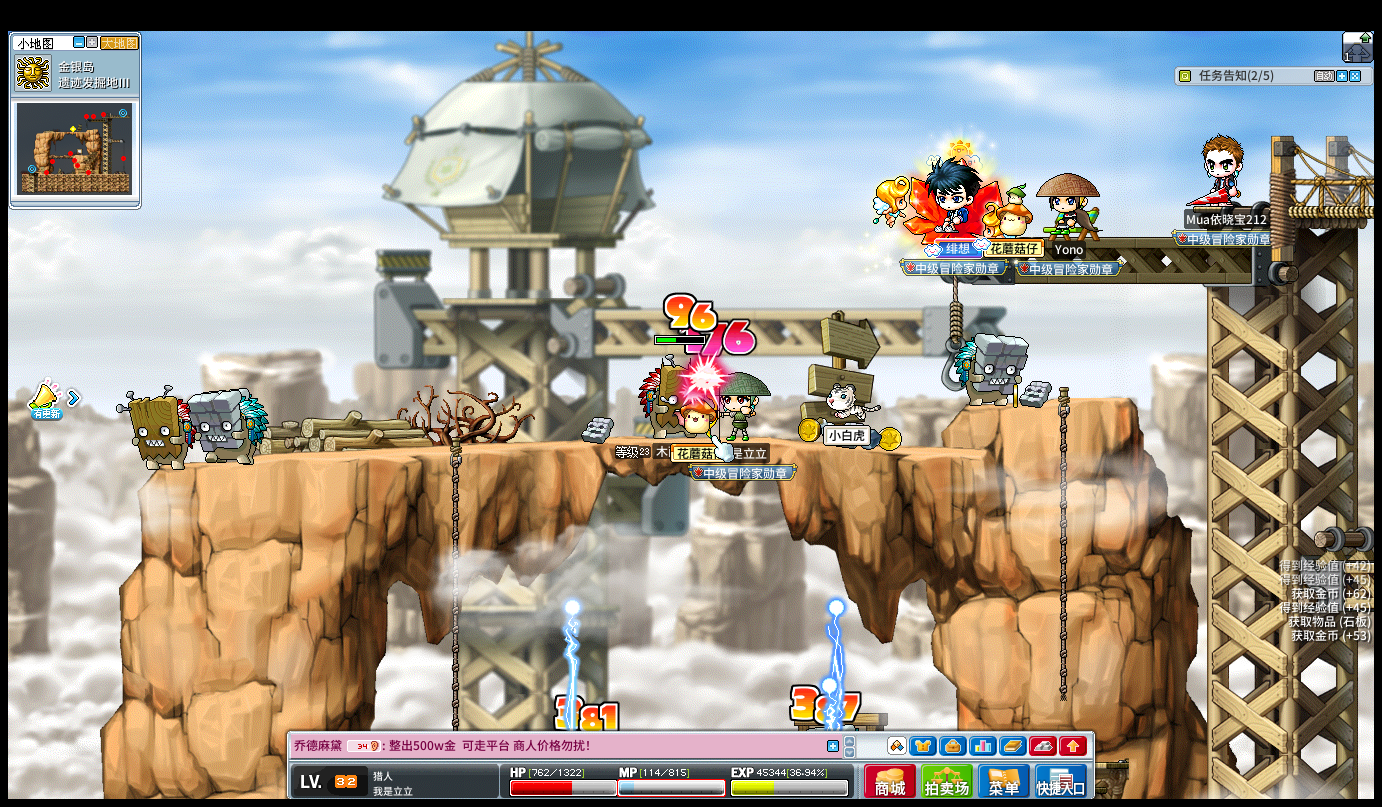floor: (168, 433, 1032, 458), (961, 391, 1135, 408)
monster: (191, 389, 267, 467), (120, 387, 193, 468), (955, 332, 1028, 407), (637, 358, 686, 436)
rope: (1055, 386, 1070, 705), (449, 433, 461, 666)
